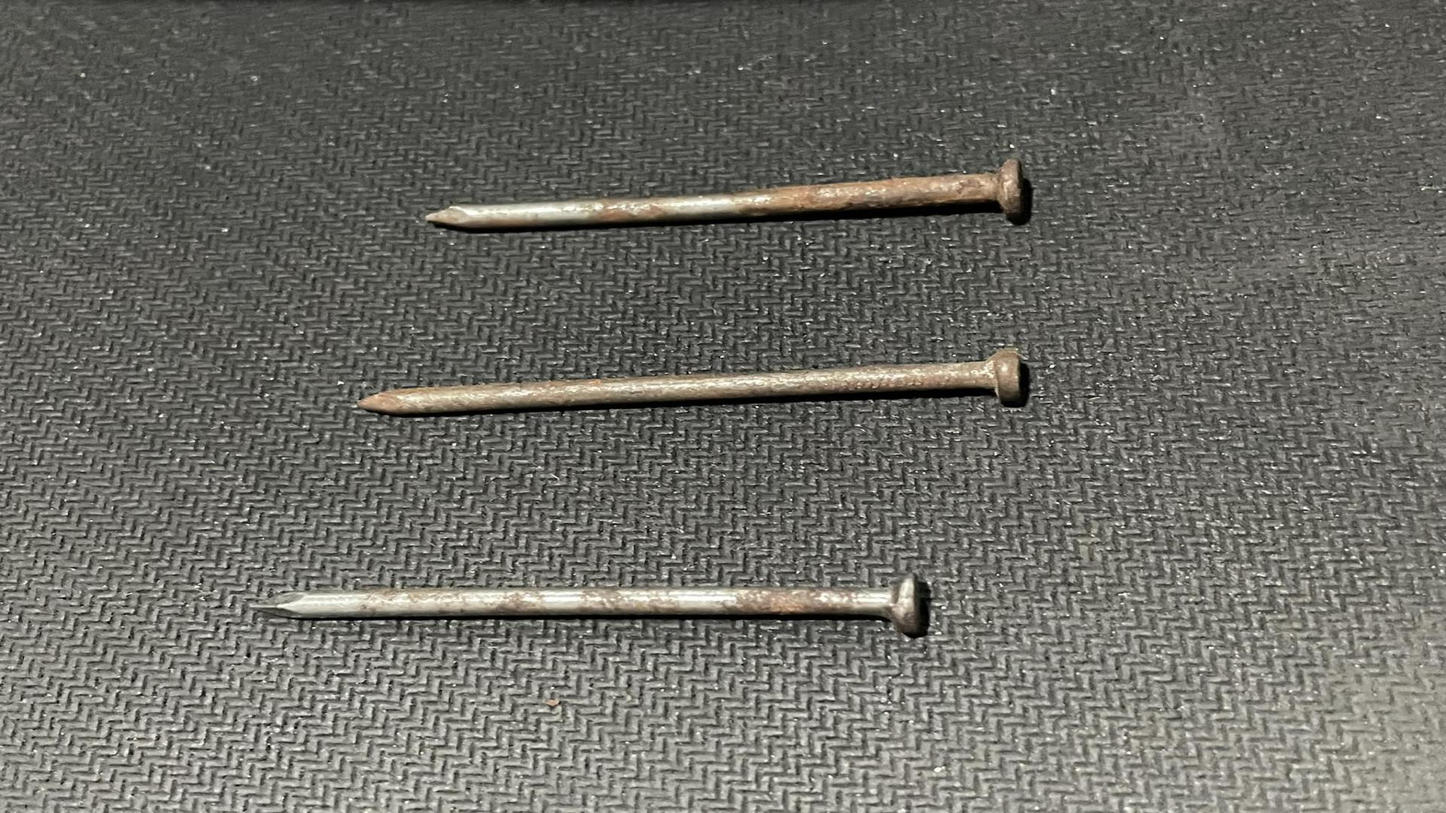nail: (210, 540, 998, 667), (385, 148, 1135, 266), (338, 348, 1087, 444)
